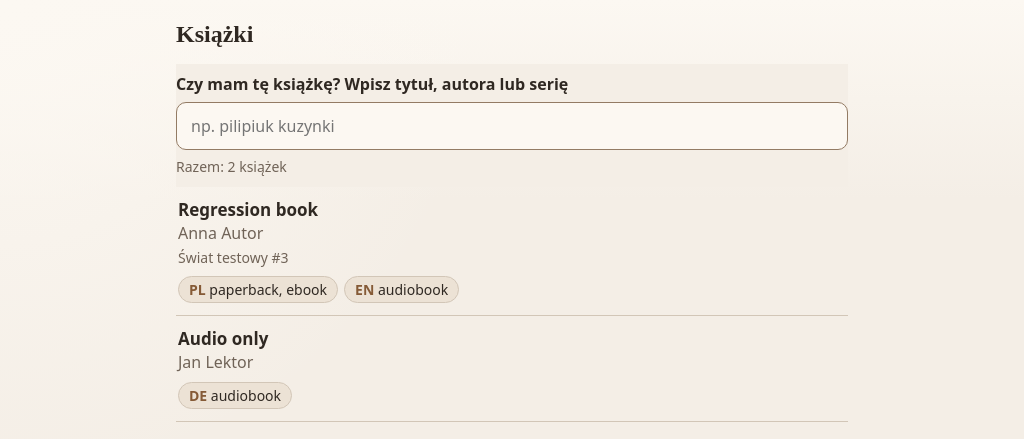
Test case: Books page › answers clearly when a title is not in the collection
This screenshot has width=1024, height=439.
Type "nieistniejaca" into the search field at (512, 126), box top-left (176, 102), bottom-right (848, 150)
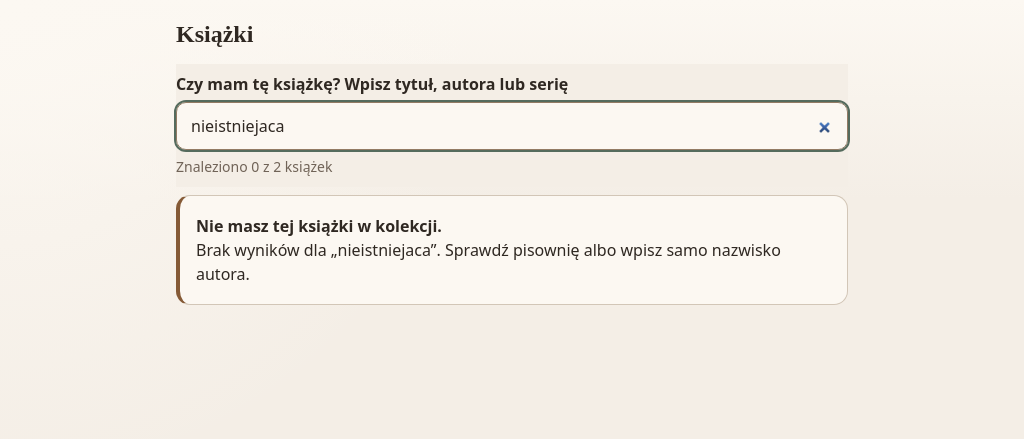
expect the text "Nie masz tej książki w kolekcji." is shown: met, box top-left (196, 215), bottom-right (442, 237)
